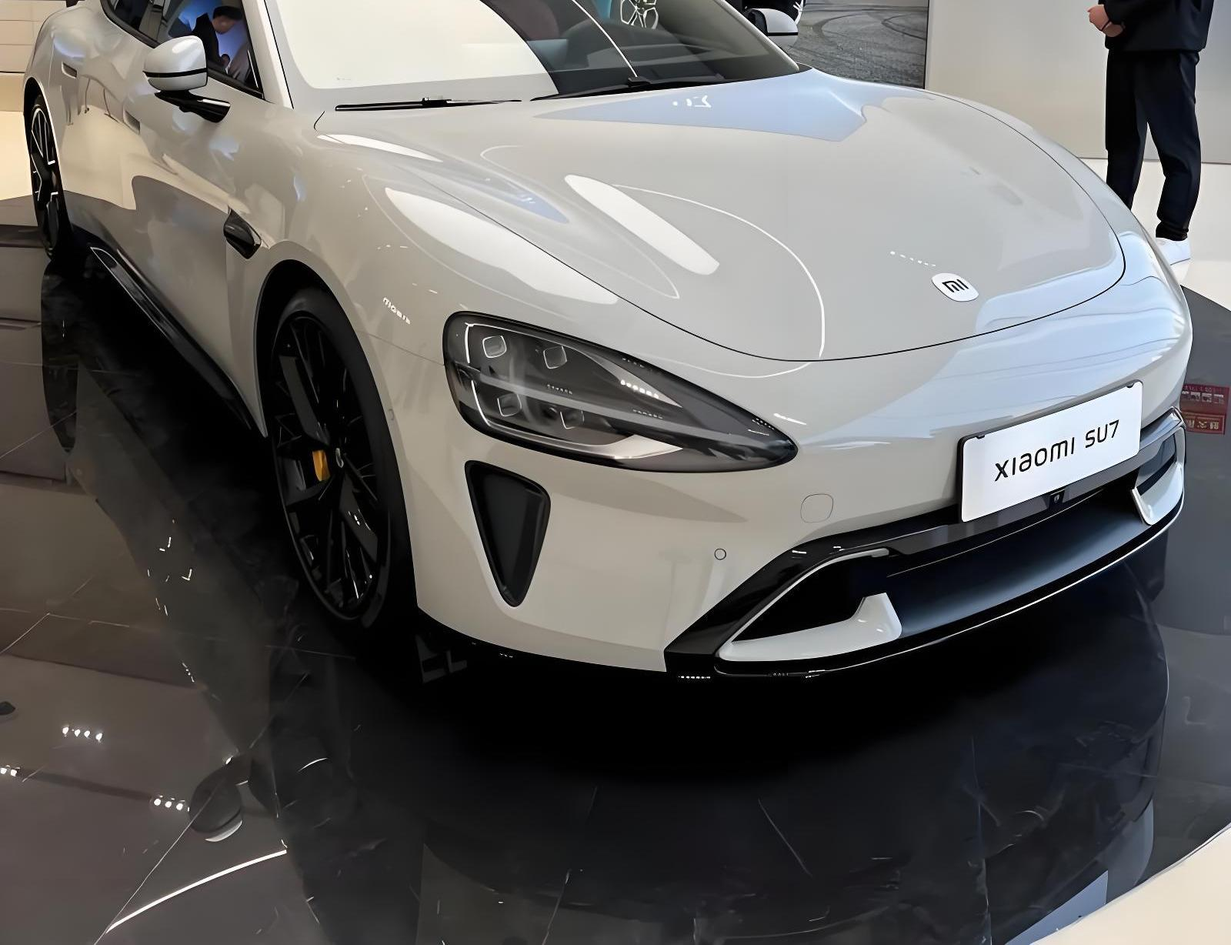XIAOMI: (932, 272, 979, 302)
